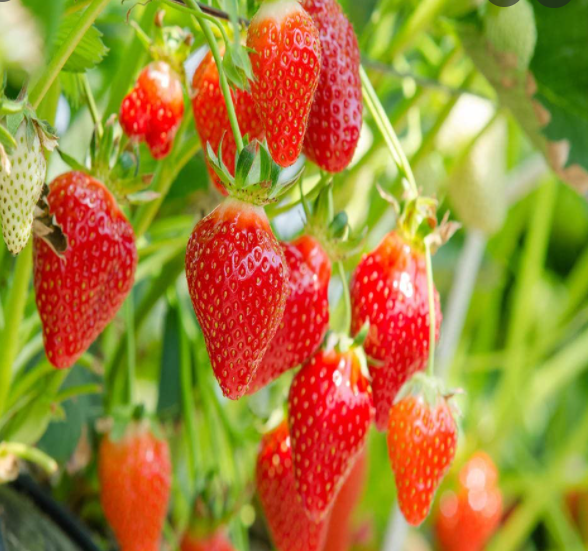ripe: (32, 168, 138, 370), (184, 199, 287, 401), (350, 235, 448, 433), (285, 334, 371, 520), (244, 230, 333, 390), (245, 3, 324, 167), (257, 417, 347, 549), (297, 6, 364, 174), (385, 373, 454, 530), (94, 421, 171, 547), (189, 43, 246, 195), (426, 454, 500, 548), (135, 59, 181, 131), (178, 511, 246, 550), (116, 85, 151, 143), (144, 109, 175, 162)
unripe: (0, 123, 42, 264)
